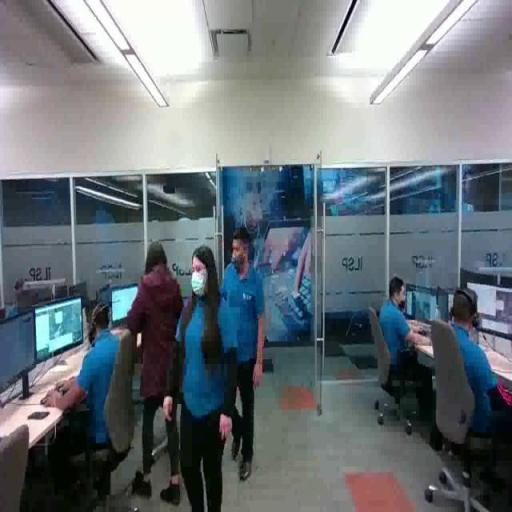person: (165, 239, 238, 512), (32, 287, 133, 479), (122, 239, 186, 504), (435, 283, 512, 461), (221, 229, 272, 475), (373, 273, 439, 422)
